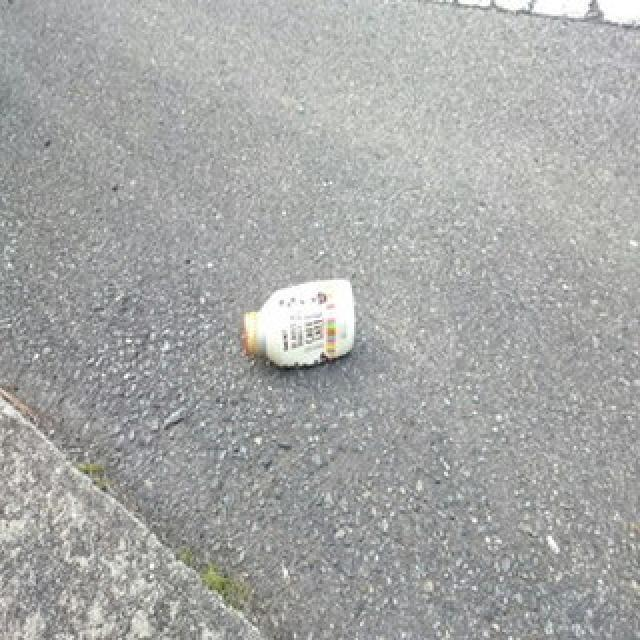can: (244, 278, 357, 368)
